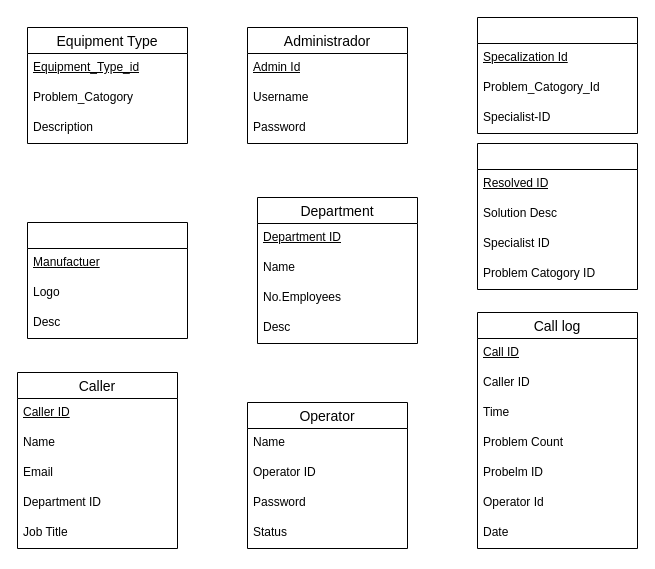
This 655x569 diagram has some shape labels left out. Here are the shapes that lost their labels. From the top down, the box of each, then its label:
(476, 16, 638, 134): Specialization
(476, 142, 638, 290): Resolved Problem
(26, 222, 188, 338): Manufacturer
